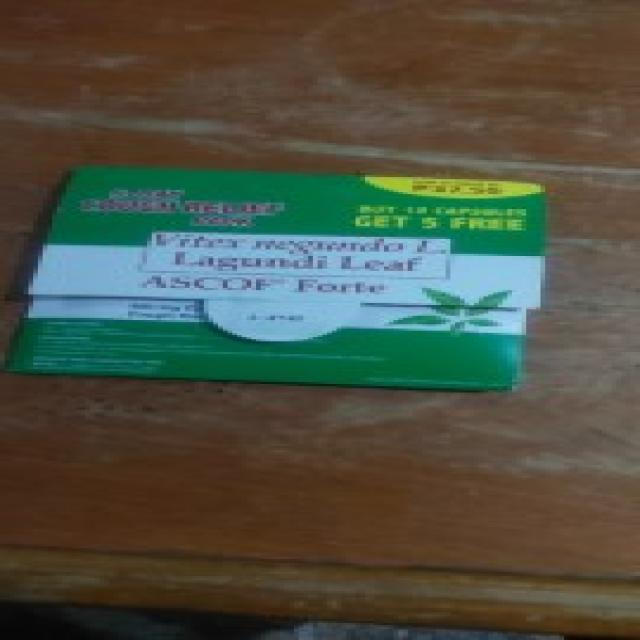Cacat: (24, 178, 545, 382)
